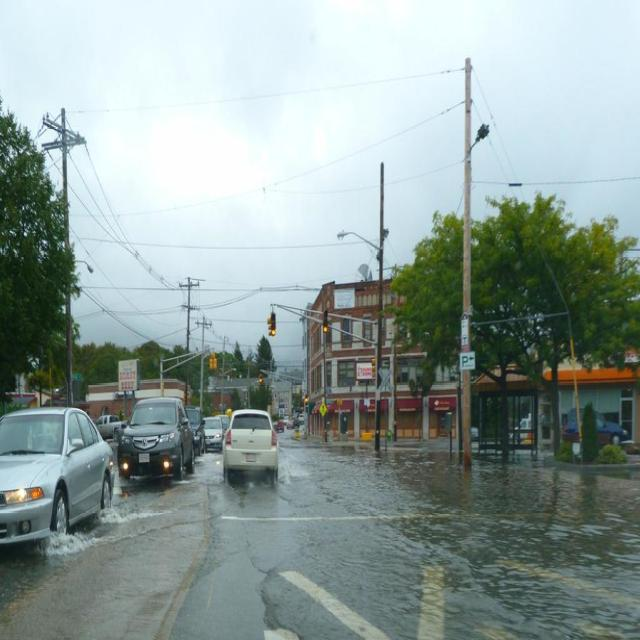traffic light: (323, 309, 328, 333), (271, 314, 276, 336)
